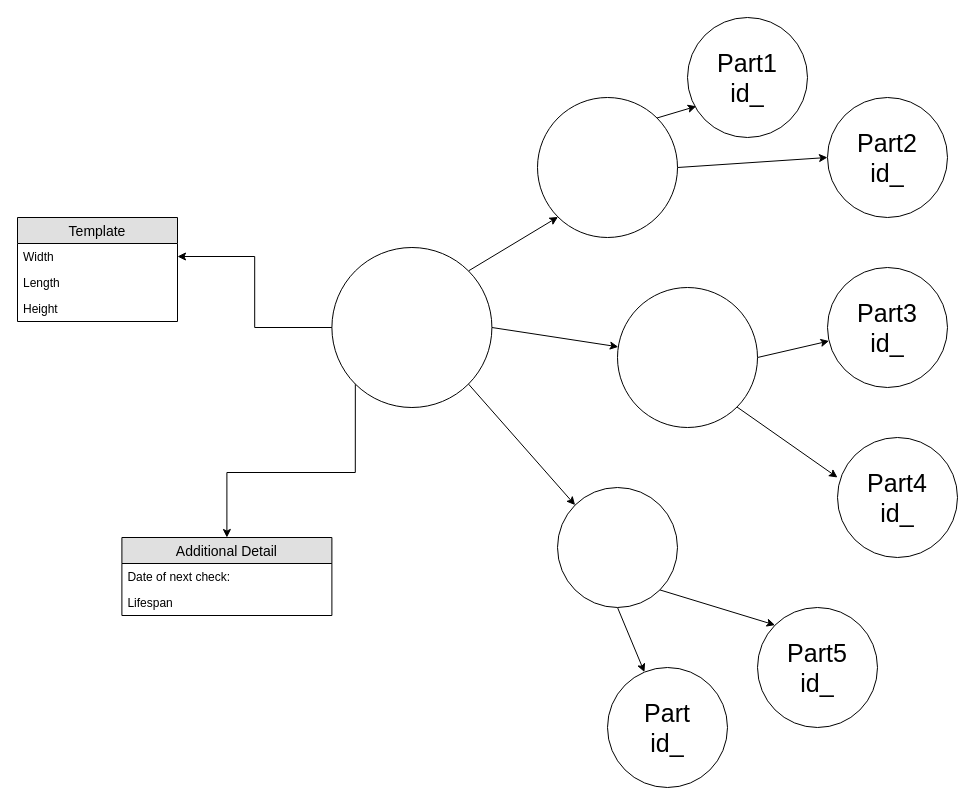
The diagram is 975 pixels wide and 805 high, and some of its shapes have lost their labels. The shapes that lost their labels are listed below. From the top down, each one's centre as x and y in pixels, then its label:
the point at 607,167: Engine id_
the point at 411,327: Plane
the point at 687,357: Fuselage id_
the point at 617,547: Wings id_
